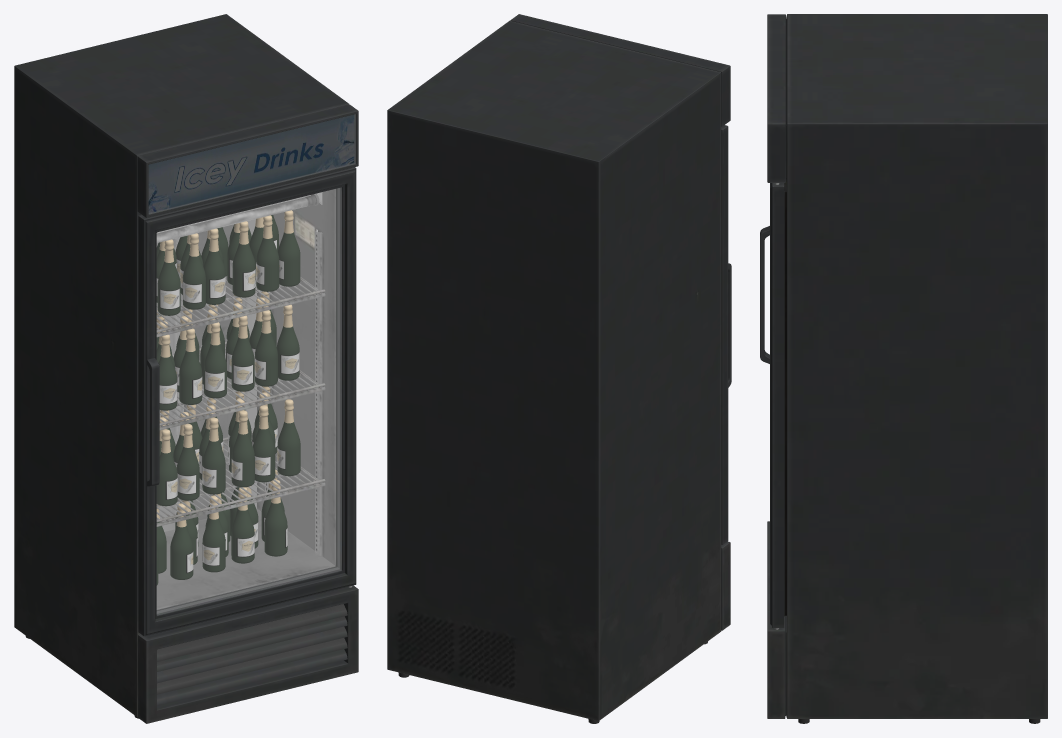
The model's file is CommercialRefrigerator.glb.
3 views of the same model, side by side, from view 1: azimuth 30°, elevation 25°; view 2: azimuth 150°, elevation 25°; view 3: azimuth 270°, elevation 25° (orthographic). The views are drawn at different scales.
Parts seen in each view (by area): view 1: FridgeCase, FridgeGlass, FridgeInterior, ChampagneBottles, FridgeDoor, FridgeDoorInner; view 2: FridgeCase, FridgeDoor; view 3: FridgeCase, FridgeDoor.
Part boxes in pixels (x1,y1,x2,y2): FridgeCase: [14, 14, 358, 723]; FridgeGlass: [157, 188, 339, 613]; FridgeInterior: [148, 114, 355, 609]; ChampagneBottles: [156, 210, 300, 585]; FridgeDoor: [138, 167, 356, 636]; FridgeDoorInner: [156, 187, 341, 615]; FridgeCase: [387, 14, 730, 723]; FridgeDoor: [721, 125, 731, 544]; FridgeCase: [767, 14, 1047, 723]; FridgeDoor: [760, 179, 786, 628].
Bounding box in the file's own units: 0.8544 × 2.18 × 0.9442.
6 materials, 3 textured.
